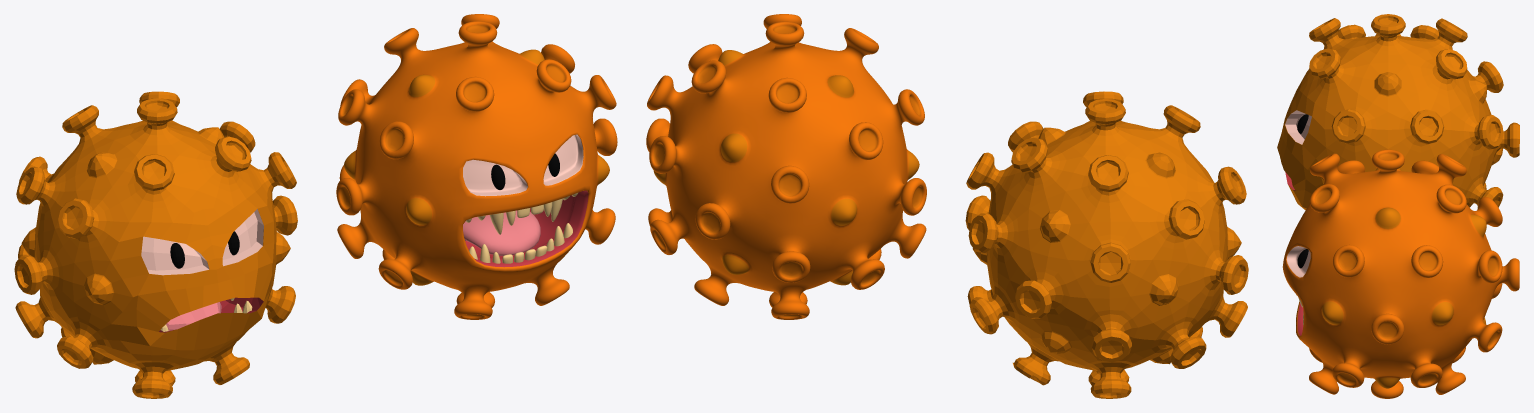
Rendered from sadVirus_1.fbx.
3 views of the same model, side by side, from view 1: azimuth 30°, elevation 25°; view 2: azimuth 150°, elevation 25°; view 3: azimuth 270°, elevation 25° (orthographic). The views are drawn at different scales.
Parts seen in each view (by area): view 1: Virus, Virus.001; view 2: Virus, Virus.001; view 3: Virus.001, Virus.
Part boxes in pixels (x1,y1,x2,y2): Virus: (14, 91, 297, 398); Virus.001: (336, 14, 617, 319); Virus: (965, 91, 1248, 398); Virus.001: (646, 14, 926, 319); Virus.001: (1282, 149, 1519, 398); Virus: (1277, 14, 1519, 209).
Size of the model in its own units: 731 by 332 by 305.
